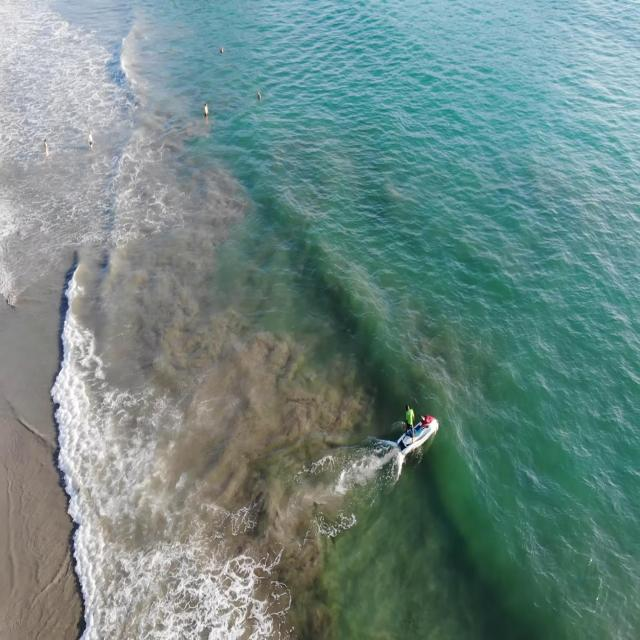boat: (396, 404, 440, 456)
